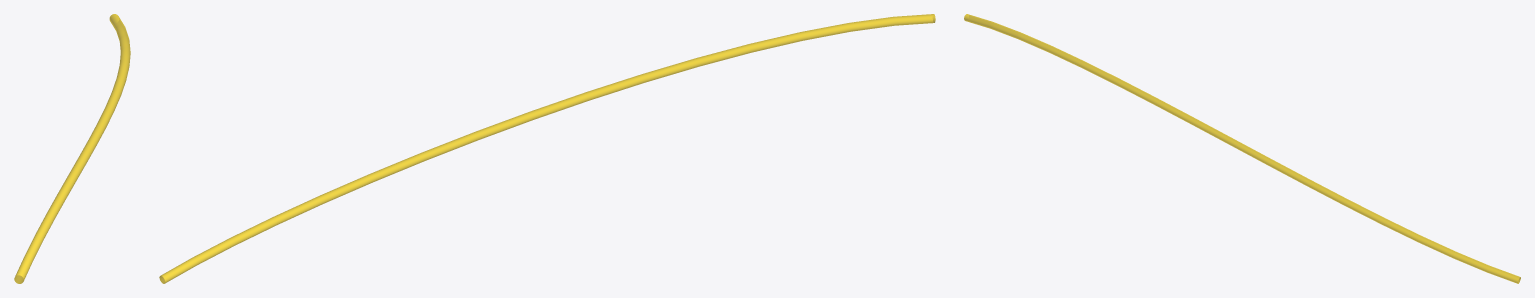
Rendered from Event_84804159_track_85.fbx.
3 views of the same model, side by side, from view 1: azimuth 90°, elevation 25°; view 2: azimuth 210°, elevation 25°; view 3: azimuth 330°, elevation 25° (orthographic). The views are drawn at different scales.
Visible parts, largest first — view 1: Model; view 2: Model; view 3: Model.
Boxes of the visible parts, box(x1,y1,x2,y2) form: Model: box(14, 14, 130, 283); Model: box(159, 14, 935, 283); Model: box(964, 14, 1520, 283).
Bounding box in the file's own units: 3.69 × 0.6119 × 0.4686.
